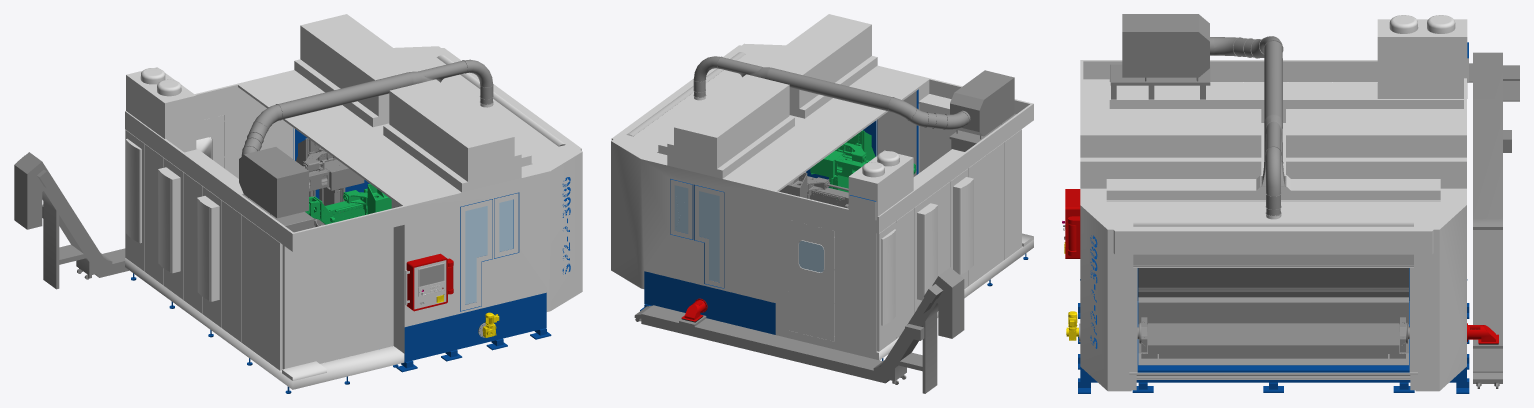
3 renders of one model, left to right at view 1: azimuth 30°, elevation 25°; view 2: azimuth 150°, elevation 25°; view 3: azimuth 270°, elevation 25°, orthographic. The views are drawn at different scales.
Visible parts, largest first — view 1: Buffer Layer (×8), AC56686198C7914C5659B24E4D4D43CEC8960163___7325FF14D543F8139, 79ABF34E49D77362BF161F65197A709B4BFC763C___B8A4396250C5687B1, ªF¥x, 54D57F913A4F4491636E1D68D99F5E5B7A459786___F1CD037A2E65C7A0C, 54D57F913A4F4491636E1D68D99F5E5B7A459786___96367DFF15959F385; view 2: Buffer Layer (×6), 79ABF34E49D77362BF161F65197A709B4BFC763C___B8A4396250C5687B1, AC56686198C7914C5659B24E4D4D43CEC8960163___7325FF14D543F8139, 54D57F913A4F4491636E1D68D99F5E5B7A459786___96367DFF15959F385, ªF¥x, 54D57F913A4F4491636E1D68D99F5E5B7A459786___F1CD037A2E65C7A0C; view 3: Buffer Layer (×4), 54D57F913A4F4491636E1D68D99F5E5B7A459786___28387D0369687A620, AC56686198C7914C5659B24E4D4D43CEC8960163___7325FF14D543F8139, 79ABF34E49D77362BF161F65197A709B4BFC763C___B8A4396250C5687B1, 4B859E305D1FD0B89D63793012D23F1BEE1C184C___B8A4396250C5687B1, 54D57F913A4F4491636E1D68D99F5E5B7A459786___B8A4396250C5687B1.
Boxes of the visible parts, box(x1,y1,x2,y2) form: Buffer Layer (×8): box(125, 14, 582, 393); AC56686198C7914C5659B24E4D4D43CEC8960163___7325FF14D543F8139: box(239, 59, 493, 232); 79ABF34E49D77362BF161F65197A709B4BFC763C___B8A4396250C5687B1: box(14, 152, 129, 289); ªF¥x: box(296, 138, 391, 227); 54D57F913A4F4491636E1D68D99F5E5B7A459786___F1CD037A2E65C7A0C: box(126, 138, 141, 243); 54D57F913A4F4491636E1D68D99F5E5B7A459786___96367DFF15959F385: box(196, 115, 223, 167); Buffer Layer (×6): box(611, 14, 1033, 360); 79ABF34E49D77362BF161F65197A709B4BFC763C___B8A4396250C5687B1: box(634, 267, 964, 393); AC56686198C7914C5659B24E4D4D43CEC8960163___7325FF14D543F8139: box(693, 56, 1016, 151); 54D57F913A4F4491636E1D68D99F5E5B7A459786___96367DFF15959F385: box(788, 220, 834, 341); ªF¥x: box(779, 130, 916, 240); 54D57F913A4F4491636E1D68D99F5E5B7A459786___F1CD037A2E65C7A0C: box(881, 229, 895, 325); Buffer Layer (×4): box(1065, 15, 1469, 391); 54D57F913A4F4491636E1D68D99F5E5B7A459786___28387D0369687A620: box(1138, 268, 1408, 365); AC56686198C7914C5659B24E4D4D43CEC8960163___7325FF14D543F8139: box(1110, 14, 1286, 216); 79ABF34E49D77362BF161F65197A709B4BFC763C___B8A4396250C5687B1: box(1467, 52, 1519, 388); 4B859E305D1FD0B89D63793012D23F1BEE1C184C___B8A4396250C5687B1: box(1137, 317, 1409, 358); 54D57F913A4F4491636E1D68D99F5E5B7A459786___B8A4396250C5687B1: box(1078, 313, 1469, 393).
Size of the model in its own units: 0.0714 by 0.0368 by 0.0616.
